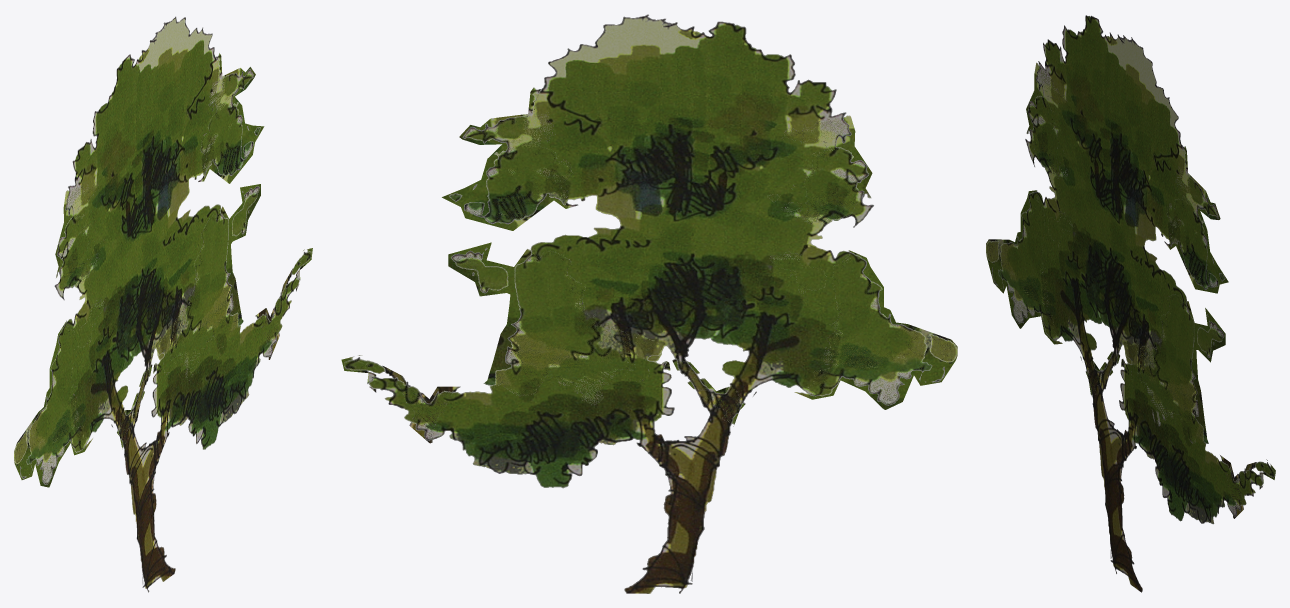
Rendered from tree1.fbx.
3 renders of one model, left to right at view 1: azimuth 30°, elevation 25°; view 2: azimuth 150°, elevation 25°; view 3: azimuth 270°, elevation 25°, orthographic. The views are drawn at different scales.
Parts seen in each view (by area): view 1: WANG_Collection___Tree_2D__Face_Me__Component1; view 2: WANG_Collection___Tree_2D__Face_Me__Component1; view 3: WANG_Collection___Tree_2D__Face_Me__Component1.
Boxes of the visible parts, x1,y1,x2,y2 form: WANG_Collection___Tree_2D__Face_Me__Component1: [14, 16, 312, 592]; WANG_Collection___Tree_2D__Face_Me__Component1: [341, 14, 957, 593]; WANG_Collection___Tree_2D__Face_Me__Component1: [986, 15, 1275, 592].
Bounding box in the file's own units: 12.73 × 15.24 × 7.29.
